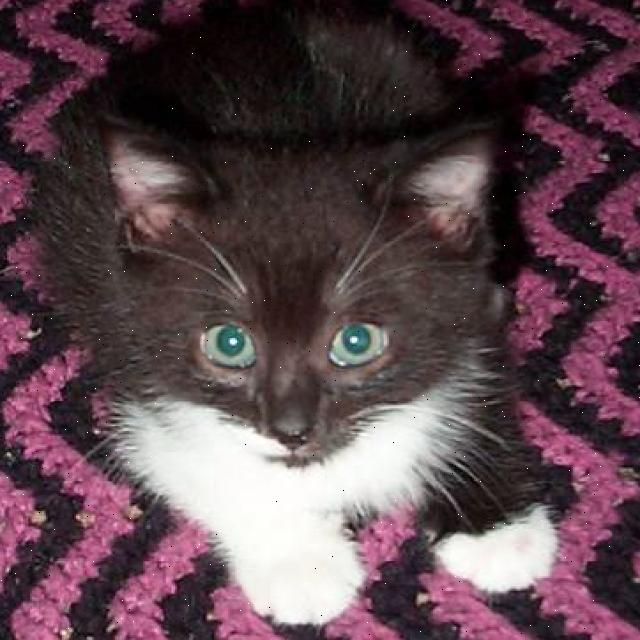Cat: (84, 129, 494, 498)
